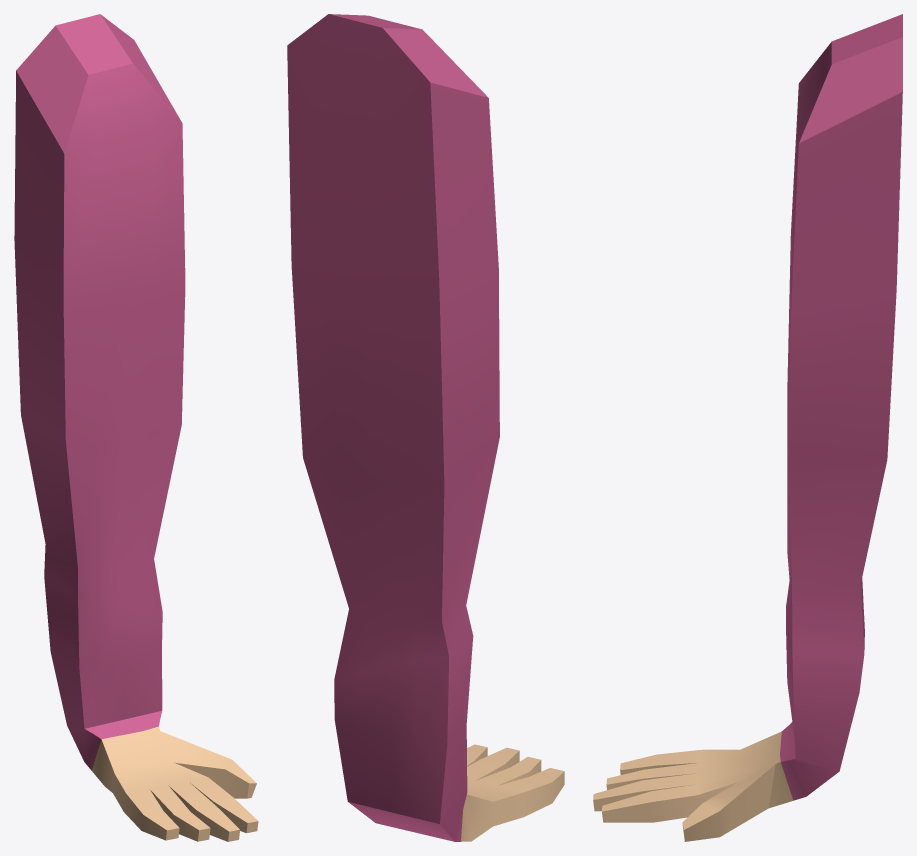
File: arm90pink.fbx
3 views of the same model, side by side, from view 1: azimuth 30°, elevation 25°; view 2: azimuth 150°, elevation 25°; view 3: azimuth 270°, elevation 25° (orthographic). The views are drawn at different scales.
Visible parts, largest first — view 1: Arm90Longer; view 2: Arm90Longer; view 3: Arm90Longer.
Boxes of the visible parts, bbox=[...] form: Arm90Longer: bbox=[14, 14, 258, 841]; Arm90Longer: bbox=[287, 14, 564, 841]; Arm90Longer: bbox=[593, 14, 902, 841].
Bounding box in the file's own units: 342 × 1645 × 592.
